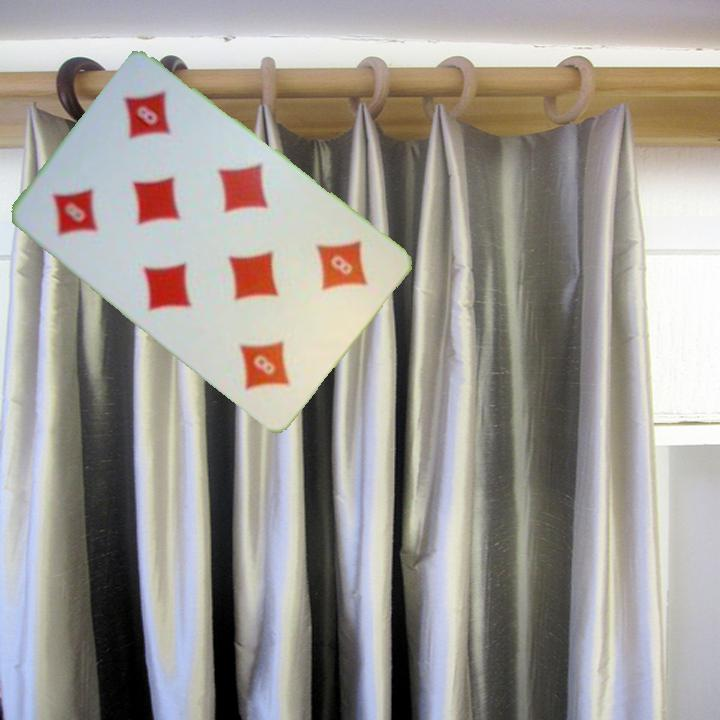d_8.png: (24, 139, 151, 269), (268, 211, 395, 340)
